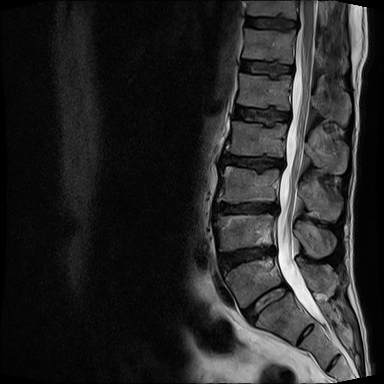Degenerative Disc Disease (DDD): (217, 241, 279, 277)
Lumbar Disc Bulge (LDB): (230, 100, 295, 129), (219, 148, 290, 174), (211, 197, 283, 220)
Normal IVD: (236, 282, 293, 329), (234, 52, 298, 78)
Spinal Stenosis (SS): (266, 195, 284, 222), (276, 154, 290, 174)
Thoracic Disc Bulge (TDB): (240, 15, 302, 33)
